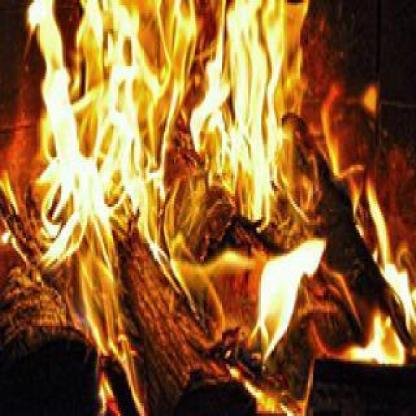Fire: (13, 0, 414, 413)
